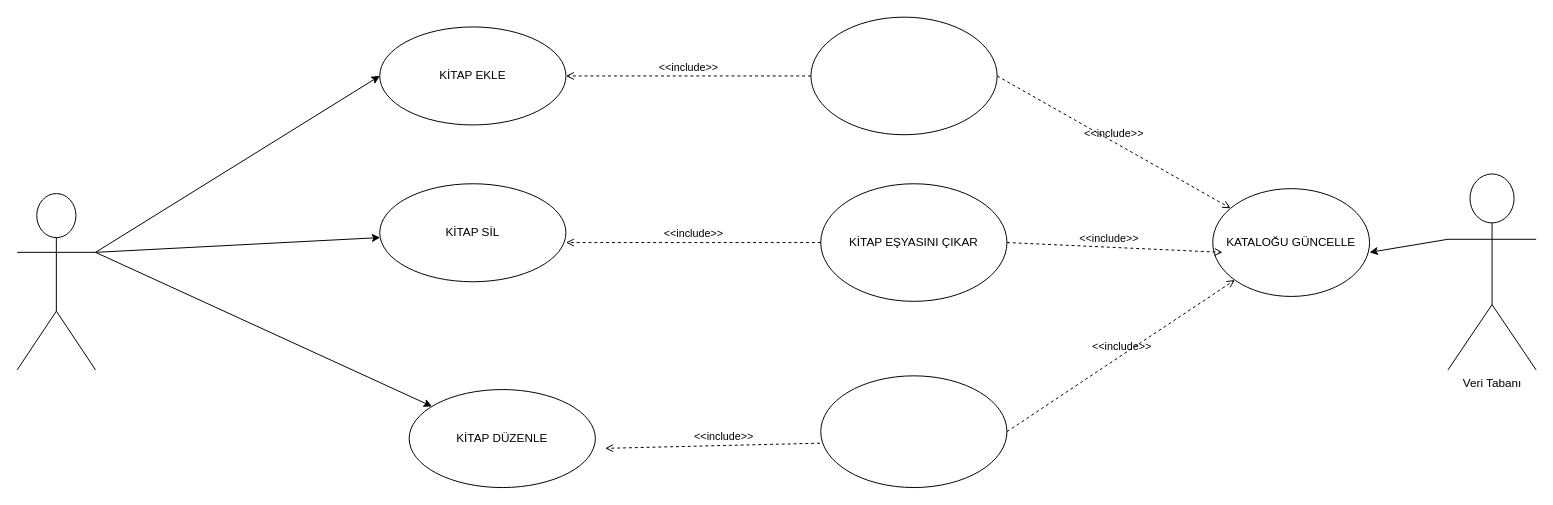
Some shapes in this 1553 by 505 pixel diagram are drawn without their labels. The centre of each missing label's shape, as x and y in pixels:
KİTAP EŞYASINI DÜZENLE: point 913,431
KİTAP EŞYASINI EKLE: point 903,75
Kütüphaneci: point 56,281
